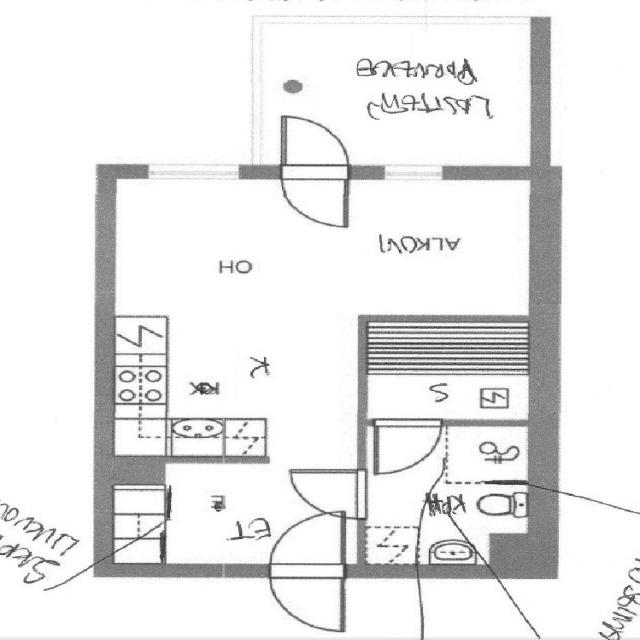door: (277, 170, 353, 234), (368, 421, 444, 478), (274, 577, 344, 637), (288, 468, 361, 524), (279, 114, 352, 168), (271, 516, 344, 566)
window: (139, 159, 247, 189), (369, 161, 453, 188)
zone: (112, 169, 548, 457), (258, 16, 539, 133), (108, 459, 357, 568), (362, 422, 537, 564)
